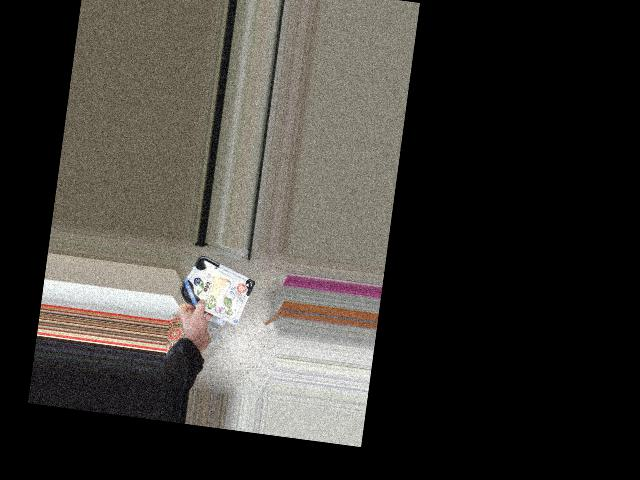cheese: (182, 260, 251, 315)
